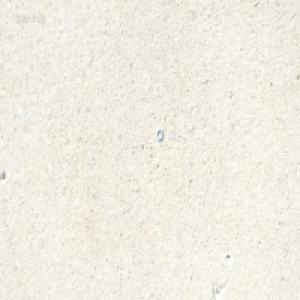Washer: (155, 127, 163, 141)
